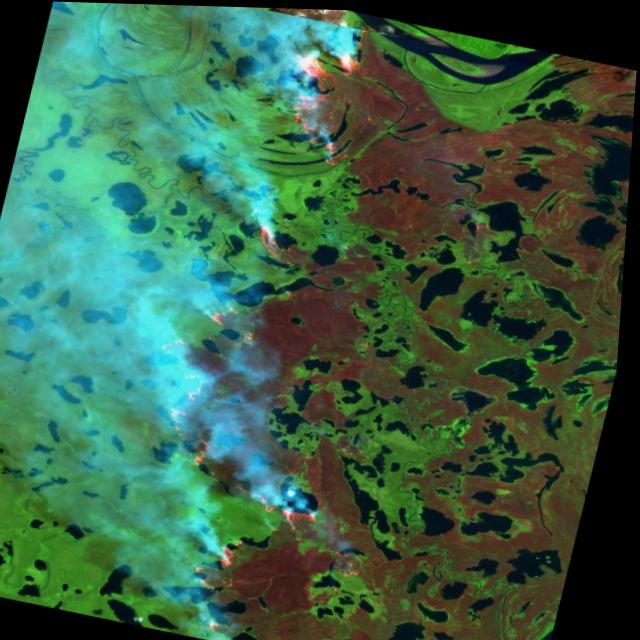fire: (109, 3, 455, 640)
